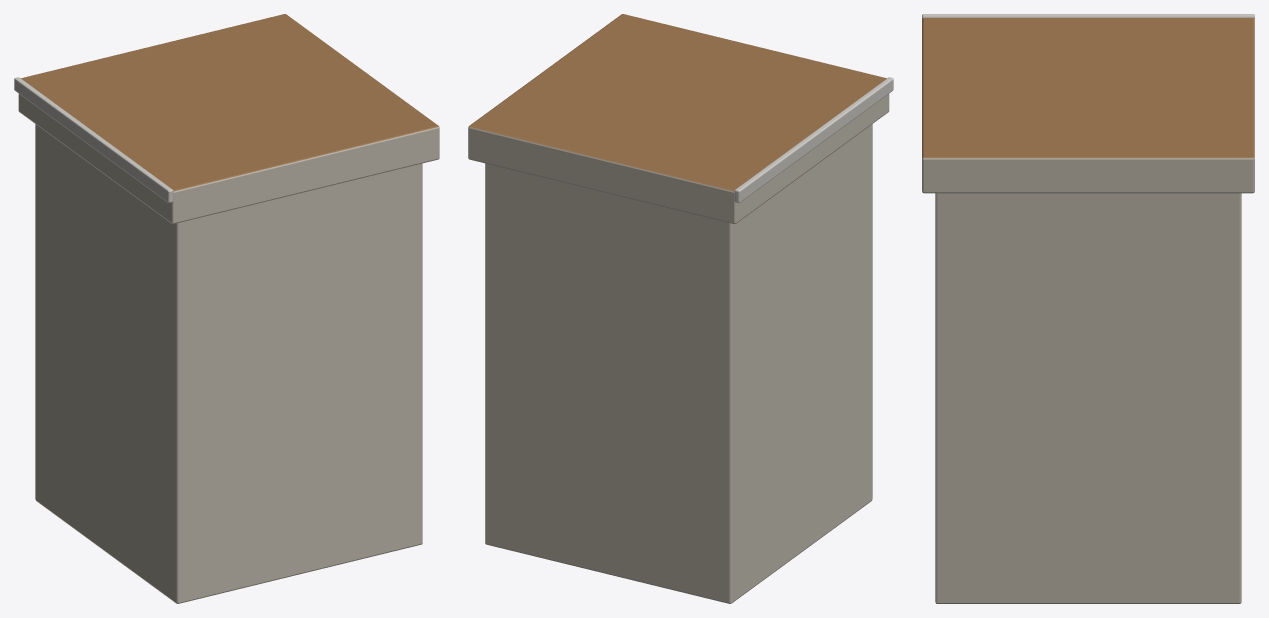
Rendered from SM_Kit_Stair_Landing.glb.
The picture shows the model from 3 angles, left to right: view 1: azimuth 30°, elevation 25°; view 2: azimuth 150°, elevation 25°; view 3: azimuth 270°, elevation 25°; orthographic projection. The views are drawn at different scales.
Parts seen in each view (by area): view 1: SM_Kit_Stair_Landing; view 2: SM_Kit_Stair_Landing; view 3: SM_Kit_Stair_Landing.
Boxes of the visible parts, x1,y1,x2,y2 form: SM_Kit_Stair_Landing: (14, 14, 439, 603); SM_Kit_Stair_Landing: (468, 14, 893, 603); SM_Kit_Stair_Landing: (922, 14, 1254, 603).
Bounding box in the file's own units: 1.01 × 1.5 × 1.
